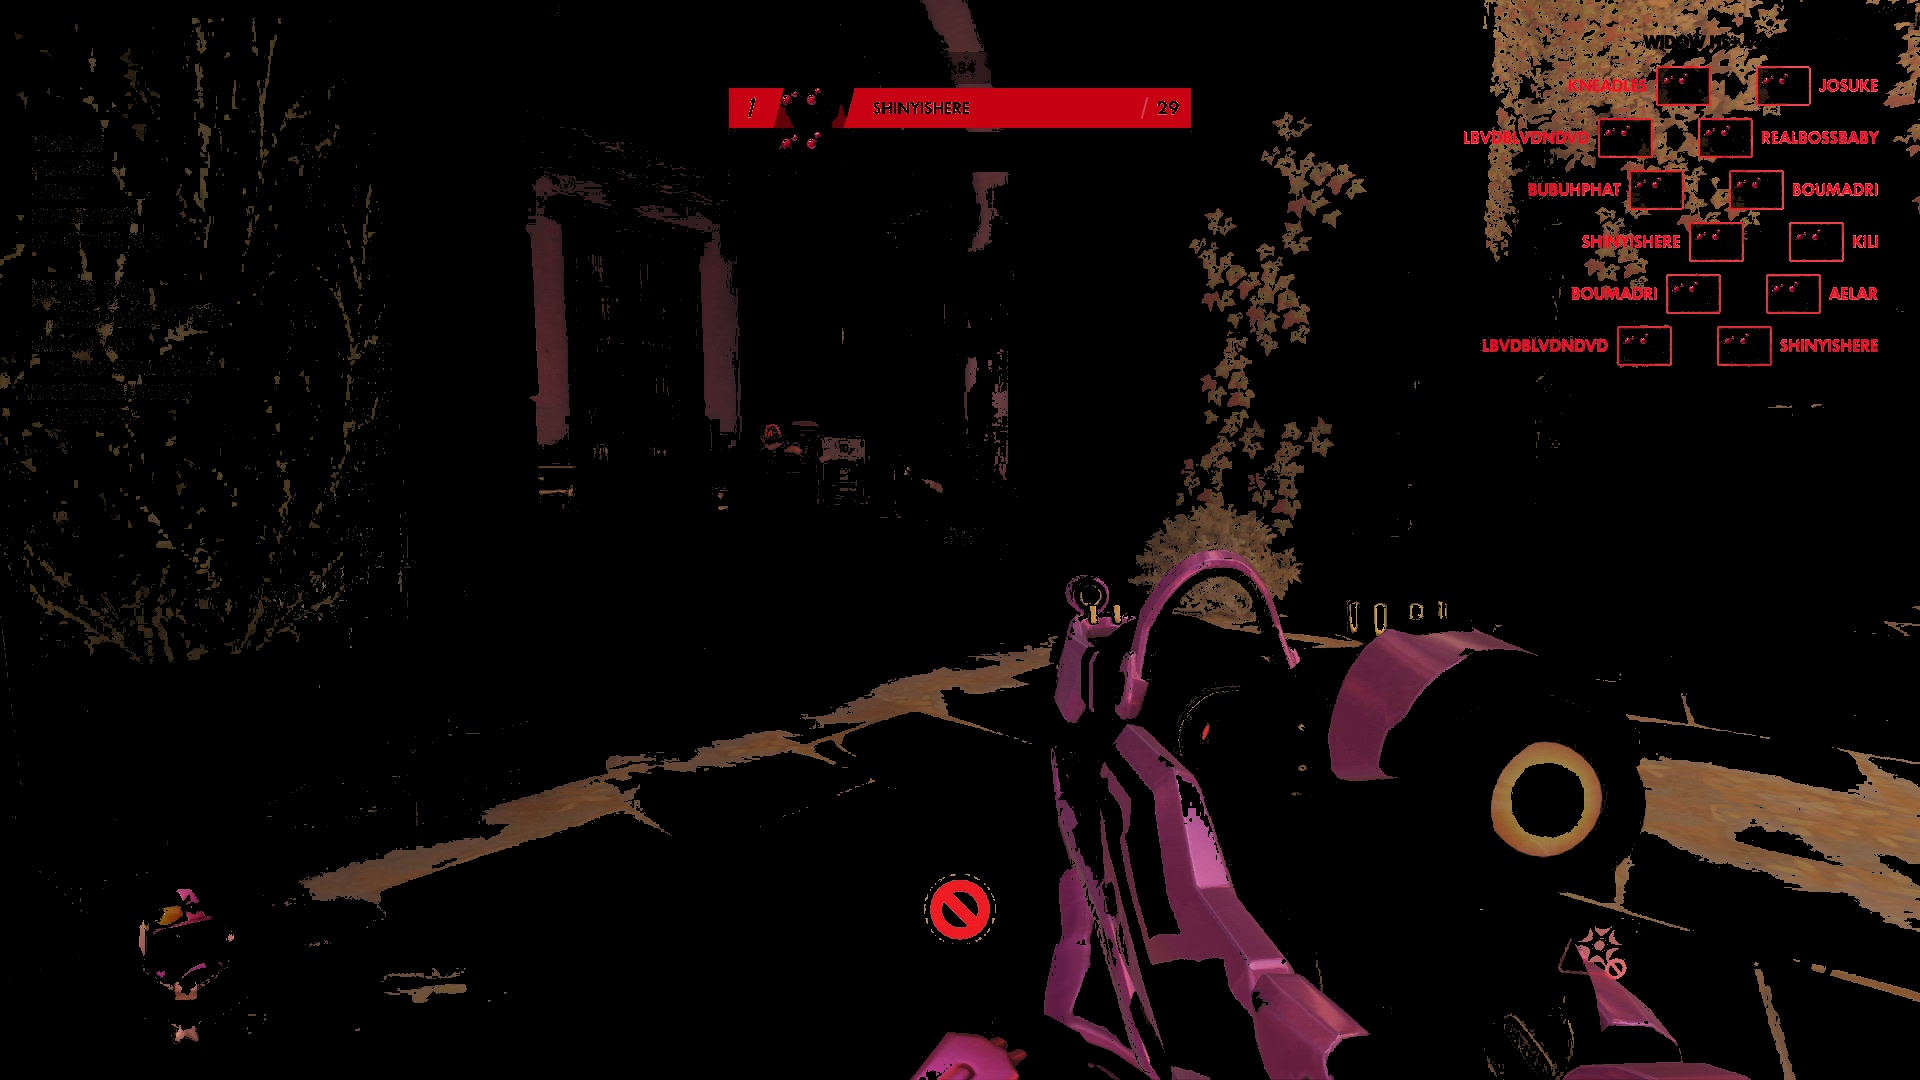widowmaker: (764, 425, 782, 438)
